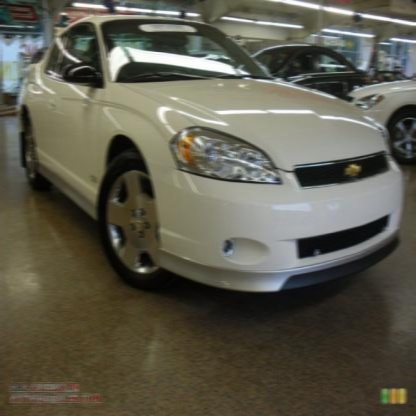Vehicle: (17, 16, 404, 300)
